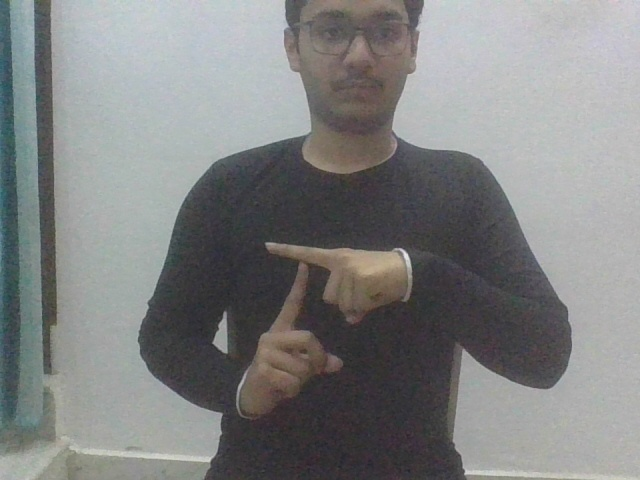T: (236, 236, 414, 420)
